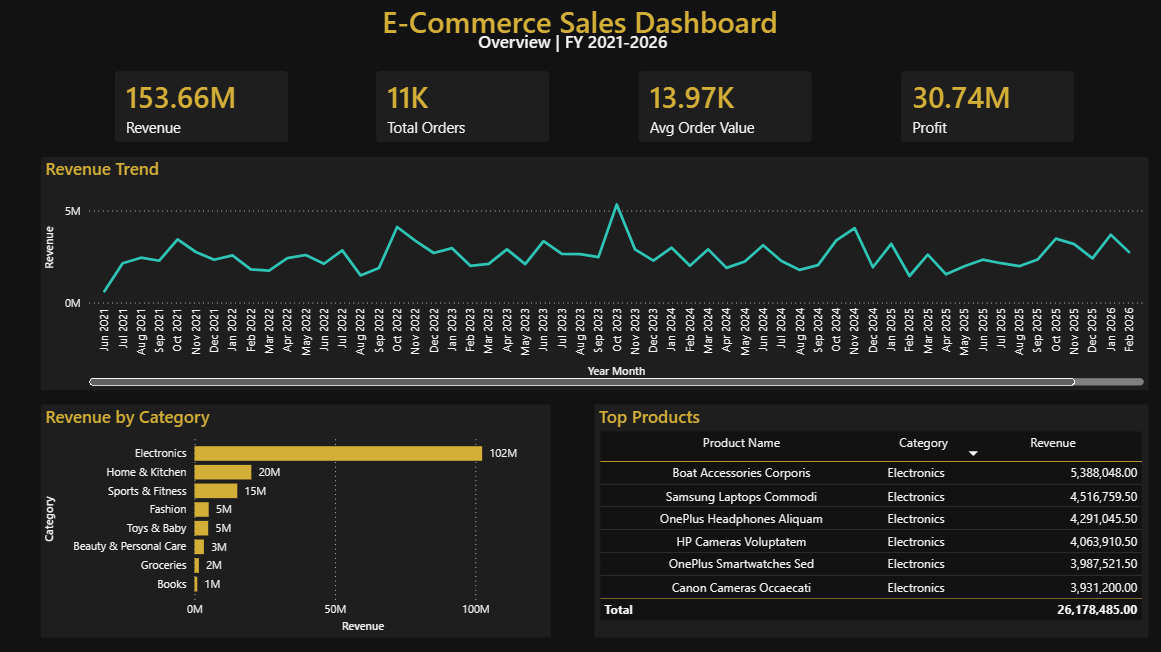

The dashboard page shown, as its layout file describes it:
{"tool":"powerbi","page":{"name":"Overview","canvas":[1280,720],"ordinal":0},"visuals":[{"type":"textbox","box":[96,0,1088,52],"z":0},{"type":"textbox","box":[432,32,400,35],"z":1000},{"type":"cardVisual","fields":{"Data":["Measure_Tab.Revenue"]},"box":[112,64,224,112],"z":2000},{"type":"cardVisual","fields":{"Data":["Measure_Tab.Avg Order Value"]},"box":[688,64,224,112],"z":3000},{"type":"cardVisual","fields":{"Data":["Measure_Tab.Profit"]},"box":[976,64,224,112],"z":4000},{"type":"cardVisual","fields":{"Data":["Measure_Tab.Total Orders"]},"box":[400,64,224,112],"z":5000},{"type":"lineChart","title":"Revenue Trend","fields":{"Category":["DateTable.YearMonth"],"Y":["Measure_Tab.Revenue"]},"box":[48,176,1216,256],"z":6000},{"type":"clusteredBarChart","fields":{"Category":["Products.Category"],"Y":["Measure_Tab.Revenue"]},"box":[48,448,560,256],"z":7000},{"type":"tableEx","title":"Top Products","fields":{"Values":["Products.ProductName","Products.Category","Measure_Tab.Revenue"]},"box":[656,448,608,256],"z":8000}]}

Visuals, with their boxes in screenshot pixels (x1, y1, x2, y2), scaled from the page's 1280x720 canvas onto the 1161x652 screenshot:
textbox: {"left": 87, "top": 0, "right": 1074, "bottom": 47}
textbox: {"left": 392, "top": 29, "right": 755, "bottom": 61}
cardVisual - Measure_Tab.Revenue: {"left": 102, "top": 58, "right": 305, "bottom": 159}
cardVisual - Measure_Tab.Avg Order Value: {"left": 624, "top": 58, "right": 827, "bottom": 159}
cardVisual - Measure_Tab.Profit: {"left": 885, "top": 58, "right": 1088, "bottom": 159}
cardVisual - Measure_Tab.Total Orders: {"left": 363, "top": 58, "right": 566, "bottom": 159}
"Revenue Trend" lineChart: {"left": 44, "top": 159, "right": 1146, "bottom": 391}
clusteredBarChart - Products.Category x Measure_Tab.Revenue: {"left": 44, "top": 406, "right": 551, "bottom": 638}
"Top Products" tableEx: {"left": 595, "top": 406, "right": 1146, "bottom": 638}
